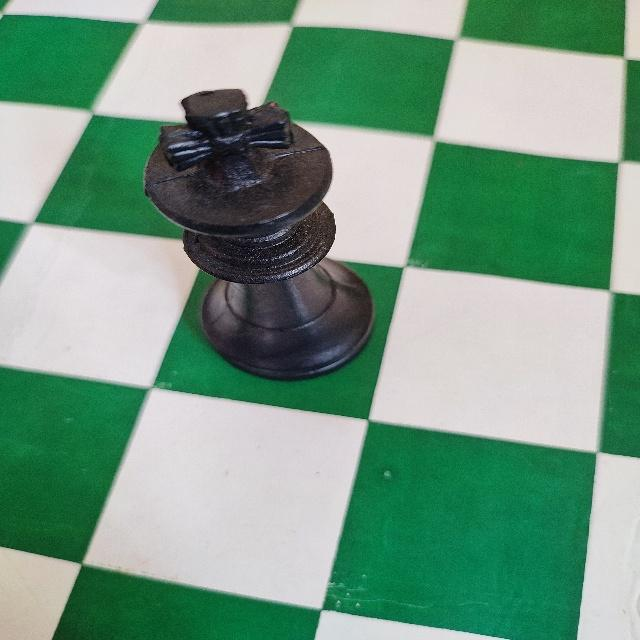King: (140, 87, 376, 382)
